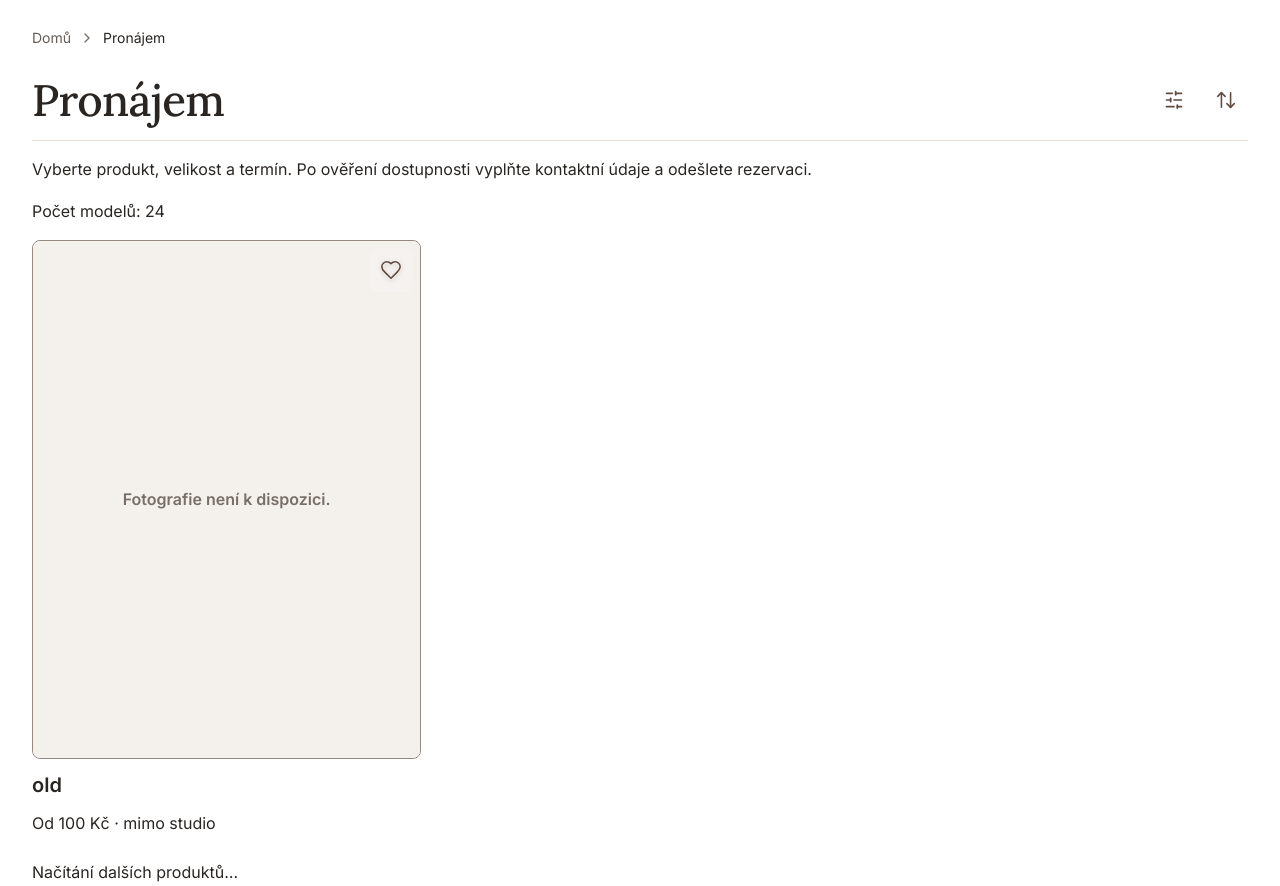
Test: sorting cancels an in-flight page and ignores its stale response
The width and height of the screenshot is (1280, 886).
Expected: the heading "old" is shown, [32,773,62,797]
Select "Cena od nejvyšší" in the dropdown named "SEŘADIT PODLE" at (1226, 100), box [1215,89,1237,111]
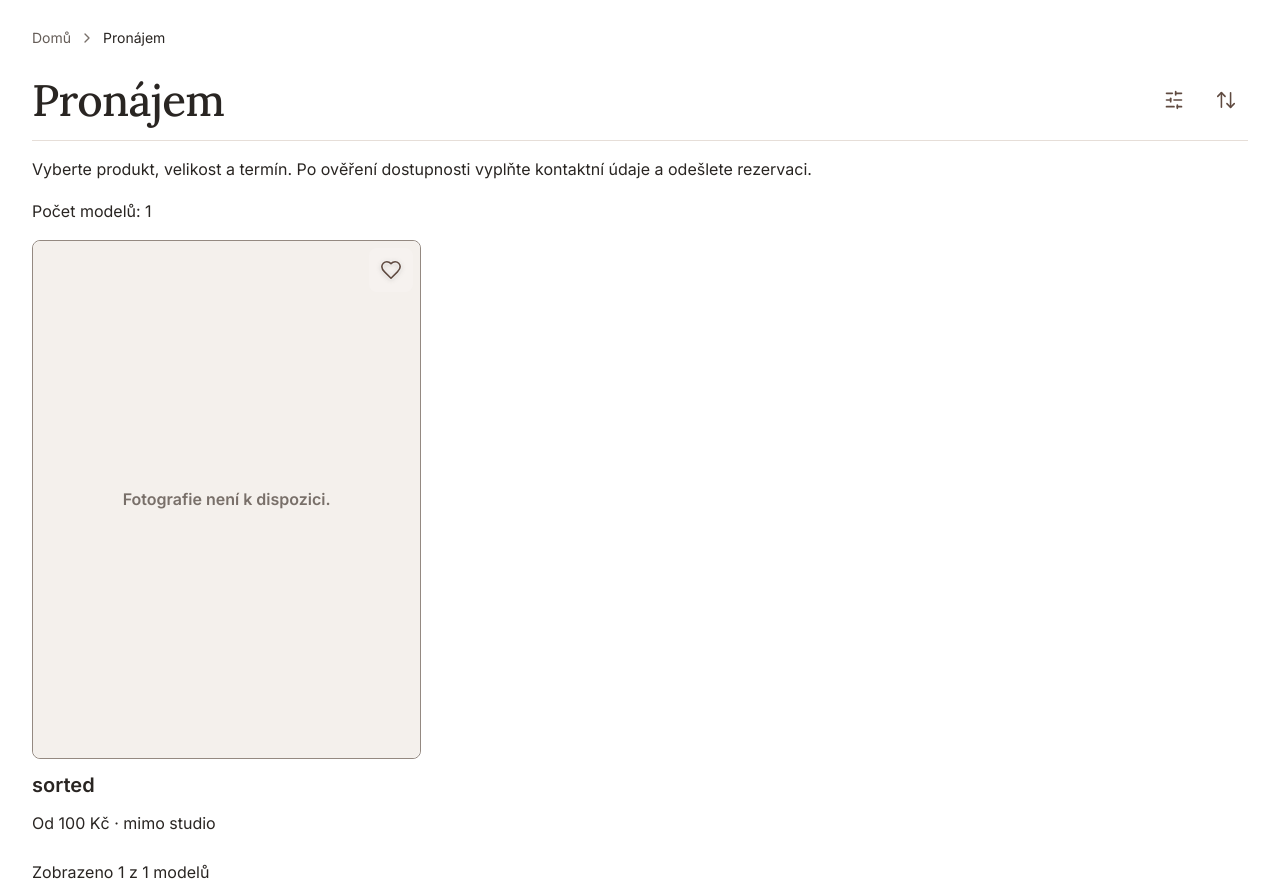
Expected: the heading "sorted" is shown, [32,773,95,797]
Expected: the heading "old" is gone
